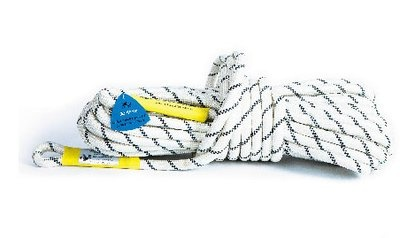9/可回收垃圾/绳子: (30, 49, 392, 176)
